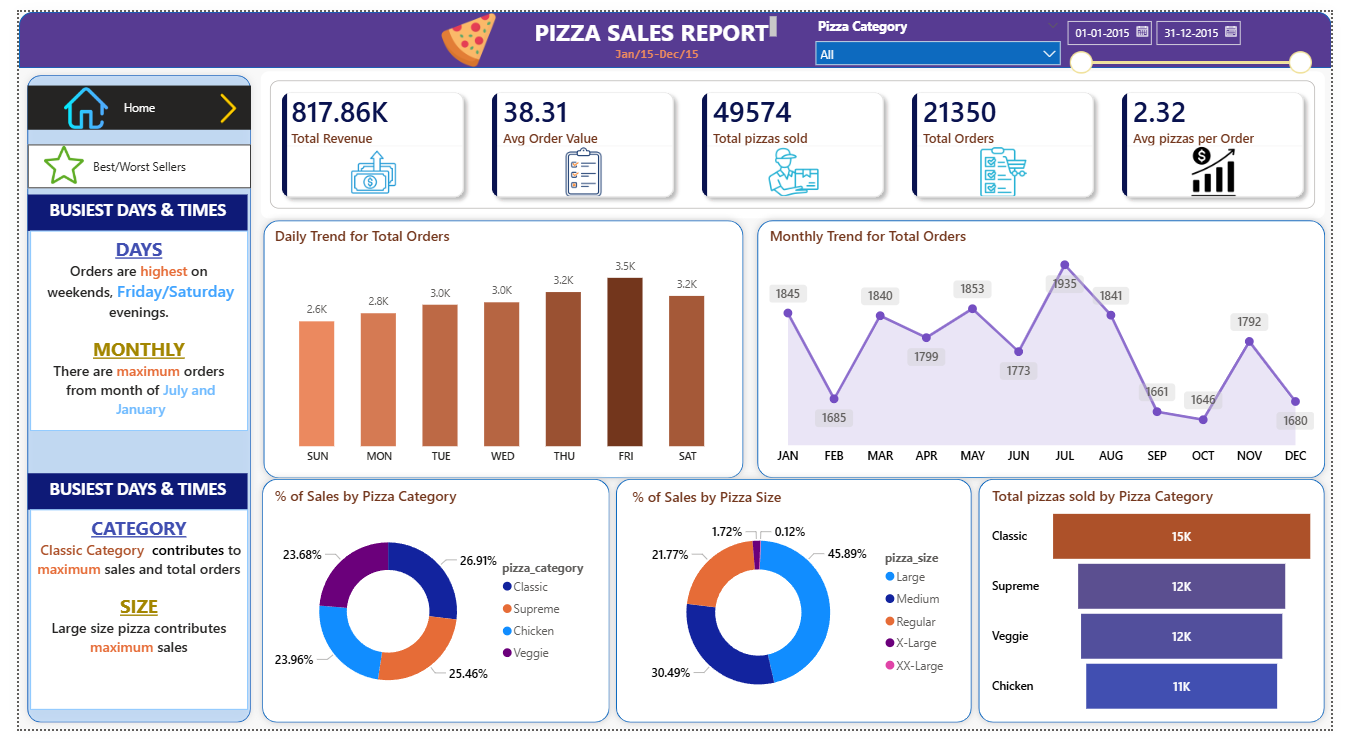

The page's visual inventory and layout, read from the dashboard file:
{"tool":"powerbi","page":{"name":"Home","canvas":[1500,820],"ordinal":0},"visuals":[{"type":"cardVisual","fields":{"Data":["pizza_sales.Total Revenue","pizza_sales.Avg Order Value","pizza_sales.Total pizzas sold","pizza_sales.Total Orders","pizza_sales.Avg pizzas per Order"]},"box":[270,61.4,1228.6,180],"z":0},{"type":"shape","box":[0,0,1500,64.3],"z":1000},{"type":"textbox","box":[584.9,0,286.3,38.4],"z":2000},{"type":"textbox","box":[665.8,32.9,126,28.8],"z":3000},{"type":"image","box":[454.8,0,119.2,64.4],"z":4000},{"type":"shape","box":[271.2,230.1,564.4,311],"z":5000},{"type":"columnChart","title":"Daily Trend  for Total Orders","fields":{"Category":["pizza_sales.Order Day"],"Y":["pizza_sales.Total Orders"]},"box":[287.7,243.8,531.5,282.2],"z":6000},{"type":"shape","box":[835.3,230.3,665,310.7],"z":7000},{"type":"areaChart","title":"Monthly Trend for Total Orders","fields":{"Y":["pizza_sales.Total Orders"],"Category":["pizza_sales.Order Month"]},"box":[853,243.9,632.3,282.1],"z":8000},{"type":"shape","box":[269.8,526,412.9,294.3],"z":9000},{"type":"shape","box":[674.5,526,422.4,294.3],"z":10000},{"type":"shape","box":[1088.8,526,411.5,294.3],"z":11000},{"type":"donutChart","title":"% of Sales by Pizza Category","fields":{"Category":["pizza_sales.pizza_category"],"Y":["pizza_sales.Total Revenue"]},"box":[287.5,541,378.8,265.7],"z":12000},{"type":"donutChart","title":"% of Sales by Pizza Size","fields":{"Y":["pizza_sales.Total Revenue"],"Category":["pizza_sales.pizza_size"]},"box":[696.3,542.3,378.8,265.7],"z":13000},{"type":"funnel","title":"Total pizzas sold by Pizza Category","fields":{"Category":["pizza_sales.pizza_category"],"Y":["pizza_sales.Total pizzas sold"]},"box":[1106.5,541,378.8,265.7],"z":14000},{"type":"shape","box":[1.4,64.3,271.4,755.7],"z":15000},{"type":"textbox","box":[10,208.6,251.4,41.4],"z":16000},{"type":"textbox","box":[12.9,250,248.6,228.6],"z":17000},{"type":"textbox","box":[10,527.1,251.4,41.4],"z":18000},{"type":"textbox","box":[12.9,568.6,248.6,228.6],"z":19000},{"type":"slicer","fields":{"Values":["pizza_sales.pizza_category"]},"box":[900,1.4,300,61.4],"z":20000},{"type":"slicer","fields":{"Values":["pizza_sales.order_date"]},"box":[1185.7,0,300,84.3],"z":21000},{"type":"pageNavigator","box":[10,84.3,255.7,50],"z":21001},{"type":"pageNavigator","box":[10,151.4,255.7,50],"z":21002},{"type":"image","box":[205.7,92.9,67.1,34.3],"z":21003},{"type":"image","box":[51.4,71.4,50,77.1],"z":21004},{"type":"image","box":[28.6,134.3,45.7,81.4],"z":21005}]}

Visuals, with their boxes in screenshot pixels (x1, y1, x2, y2), scaled from the page's 1500x820 canvas onto the 1348x741 screenshot:
cardVisual - pizza_sales.Total Revenue x pizza_sales.Avg Order Value: [243,55,1347,218]
shape: [0,0,1347,58]
textbox: [526,0,783,35]
textbox: [598,30,712,56]
image: [409,0,516,58]
shape: [244,208,751,489]
"Daily Trend  for Total Orders" columnChart: [259,220,736,475]
shape: [751,208,1347,489]
"Monthly Trend for Total Orders" areaChart: [767,220,1335,475]
shape: [242,475,614,740]
shape: [606,475,986,740]
shape: [978,475,1347,740]
"% of Sales by Pizza Category" donutChart: [258,489,599,729]
"% of Sales by Pizza Size" donutChart: [626,490,966,730]
"Total pizzas sold by Pizza Category" funnel: [994,489,1335,729]
shape: [1,58,245,740]
textbox: [9,189,235,226]
textbox: [12,226,235,432]
textbox: [9,476,235,514]
textbox: [12,514,235,720]
slicer - pizza_sales.pizza_category: [809,1,1078,57]
slicer - pizza_sales.order_date: [1066,0,1335,76]
pageNavigator: [9,76,239,121]
pageNavigator: [9,137,239,182]
image: [185,84,245,115]
image: [46,65,91,134]
image: [26,121,67,195]
